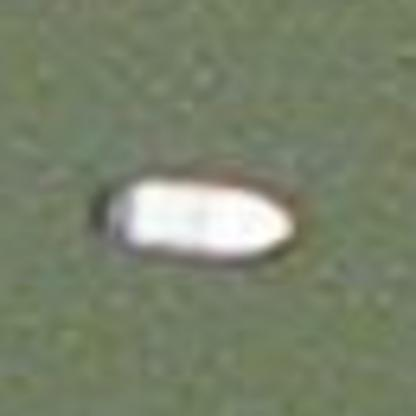ship: (73, 159, 309, 274)
